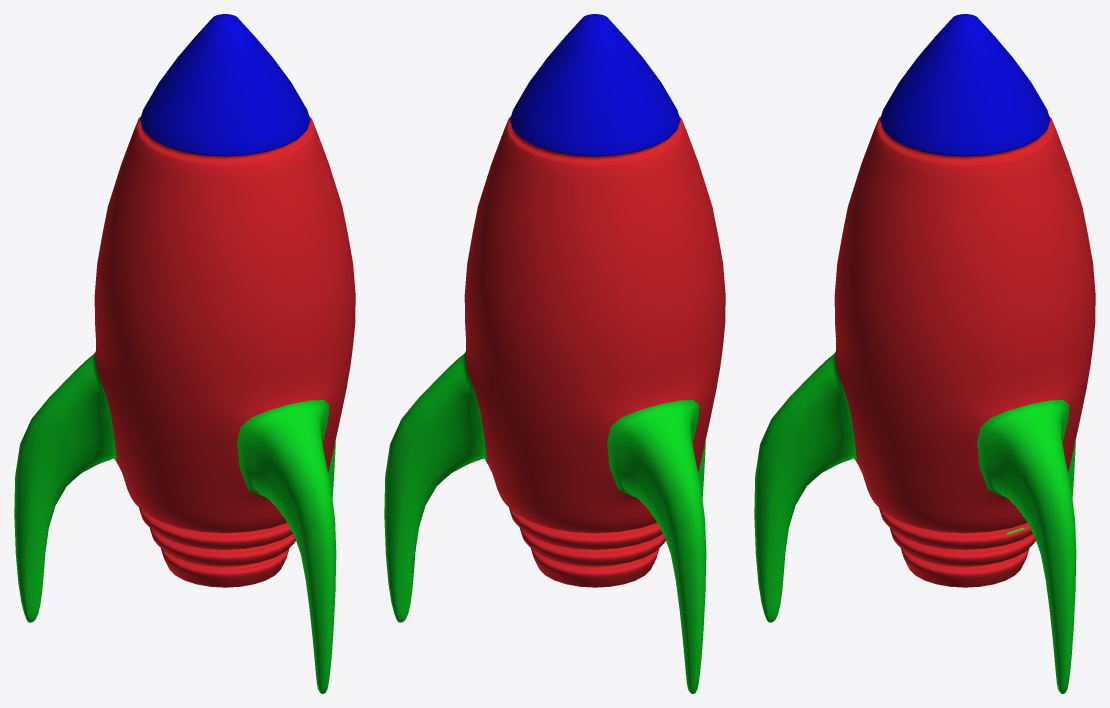
File: Rocket.fbx
3 views of the same model, side by side, from view 1: azimuth 30°, elevation 25°; view 2: azimuth 150°, elevation 25°; view 3: azimuth 270°, elevation 25° (orthographic).
Visible parts, largest first — view 1: Rocket; view 2: Rocket; view 3: Rocket.
Boxes of the visible parts, box(x1,y1,x2,y2) form: Rocket: box(14, 14, 355, 693); Rocket: box(384, 14, 725, 693); Rocket: box(754, 14, 1095, 693).
Bounding box in the file's own units: 25.97 × 47.59 × 24.23.
